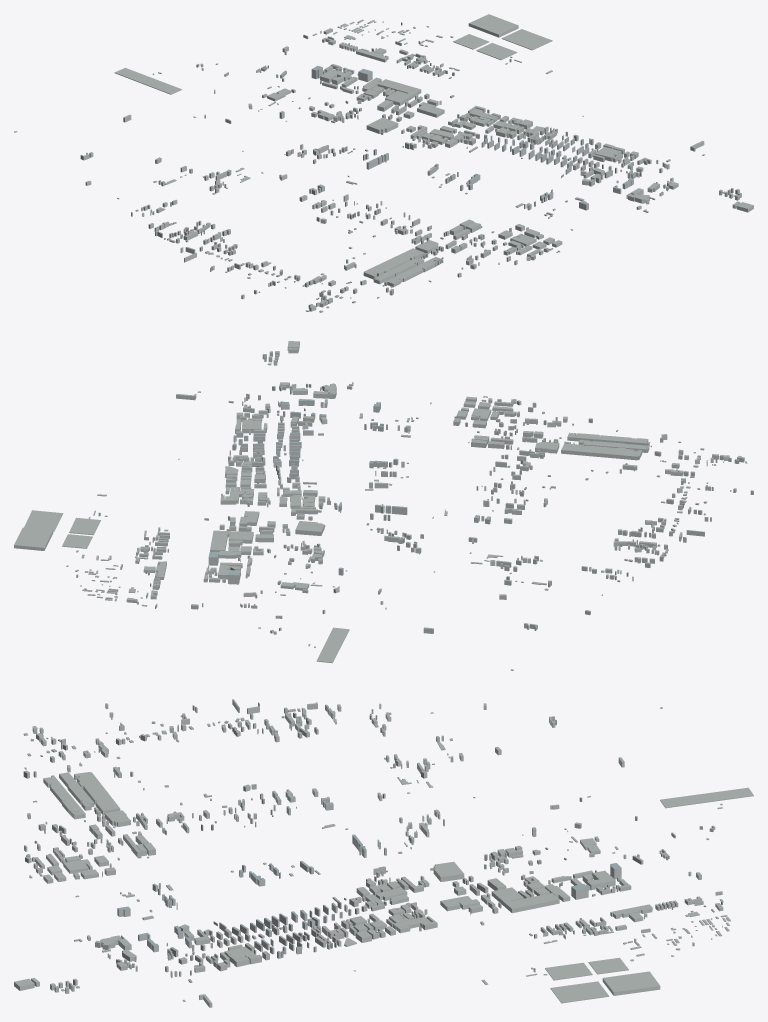
File: far.glb
The picture shows the model from 3 angles, top to bottom: view 1: azimuth 30°, elevation 25°; view 2: azimuth 150°, elevation 25°; view 3: azimuth 270°, elevation 25°; orthographic projection. The views are drawn at different scales.
Bounding box in the file's own units: 2125 × 34.77 × 2188.
